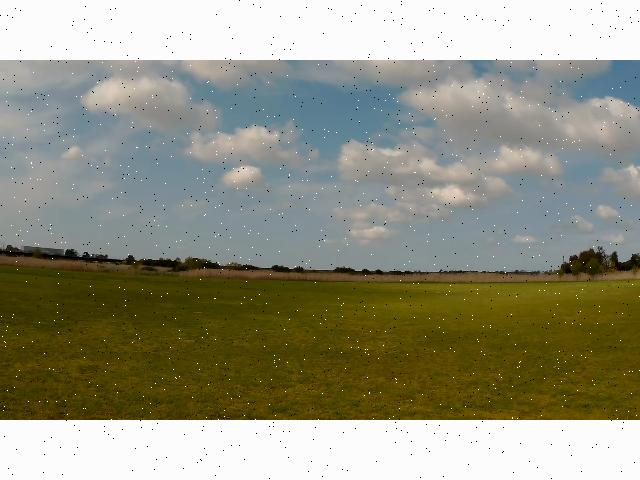Anti-Drone: (305, 191, 327, 206)
